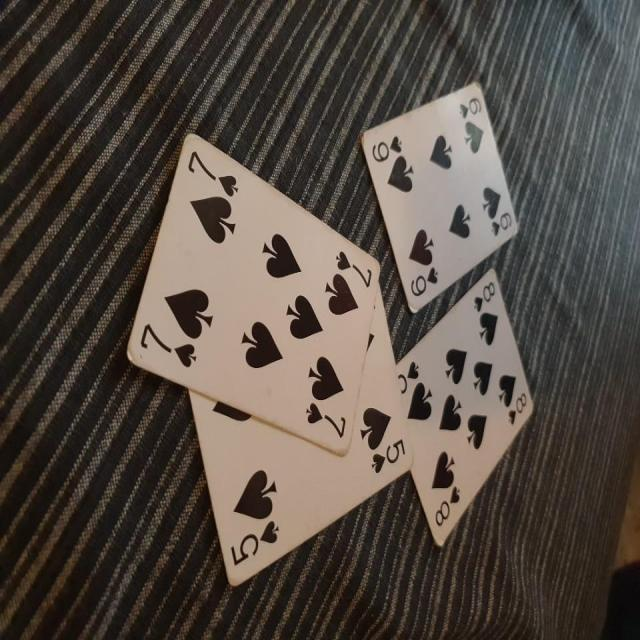5 Spades: (195, 276, 416, 588)
6 Spades: (352, 76, 535, 327)
7 Spades: (115, 120, 382, 463)
8 Spades: (390, 272, 548, 568)
